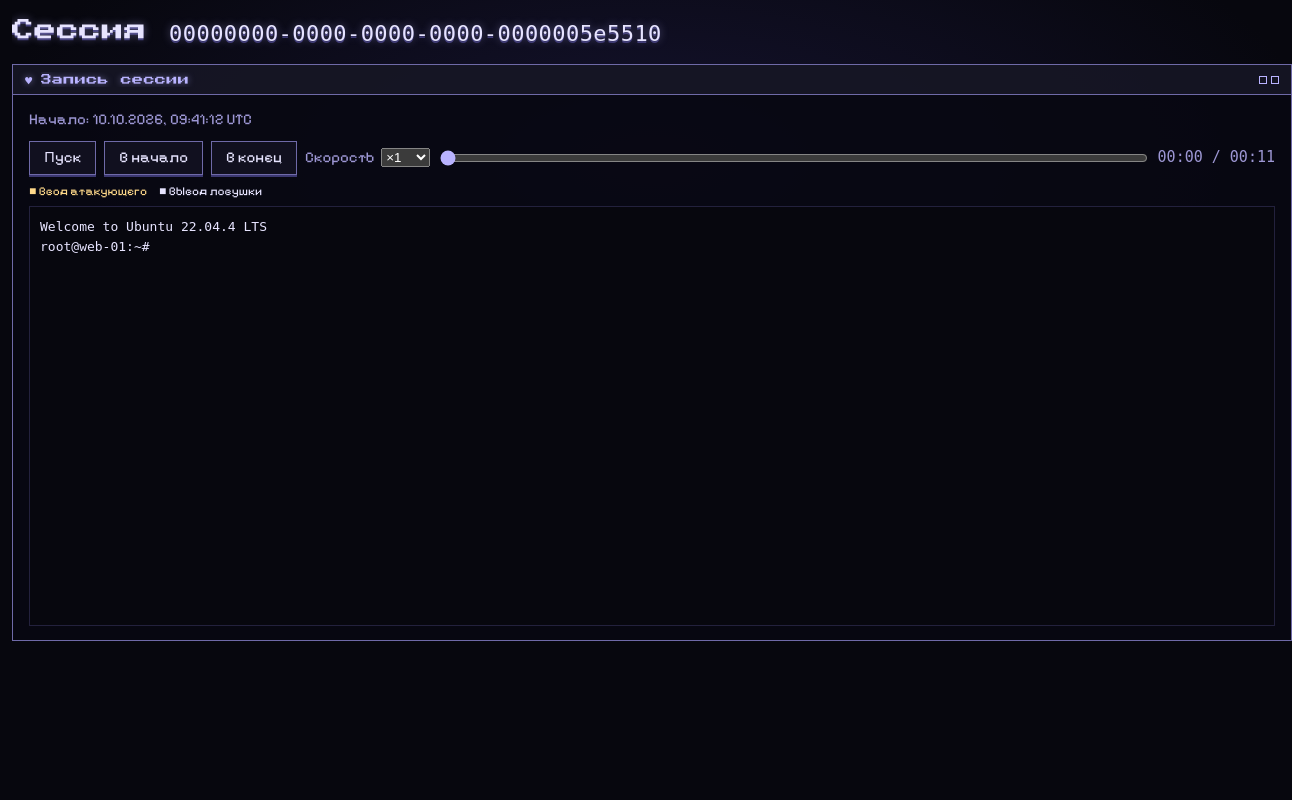
Test: экран записи сессии (F15) › «В начало» скрывает показанное
The width and height of the screenshot is (1292, 800).
Step 1. Click the button "В конец" → (254, 158), box [211, 141, 297, 175]
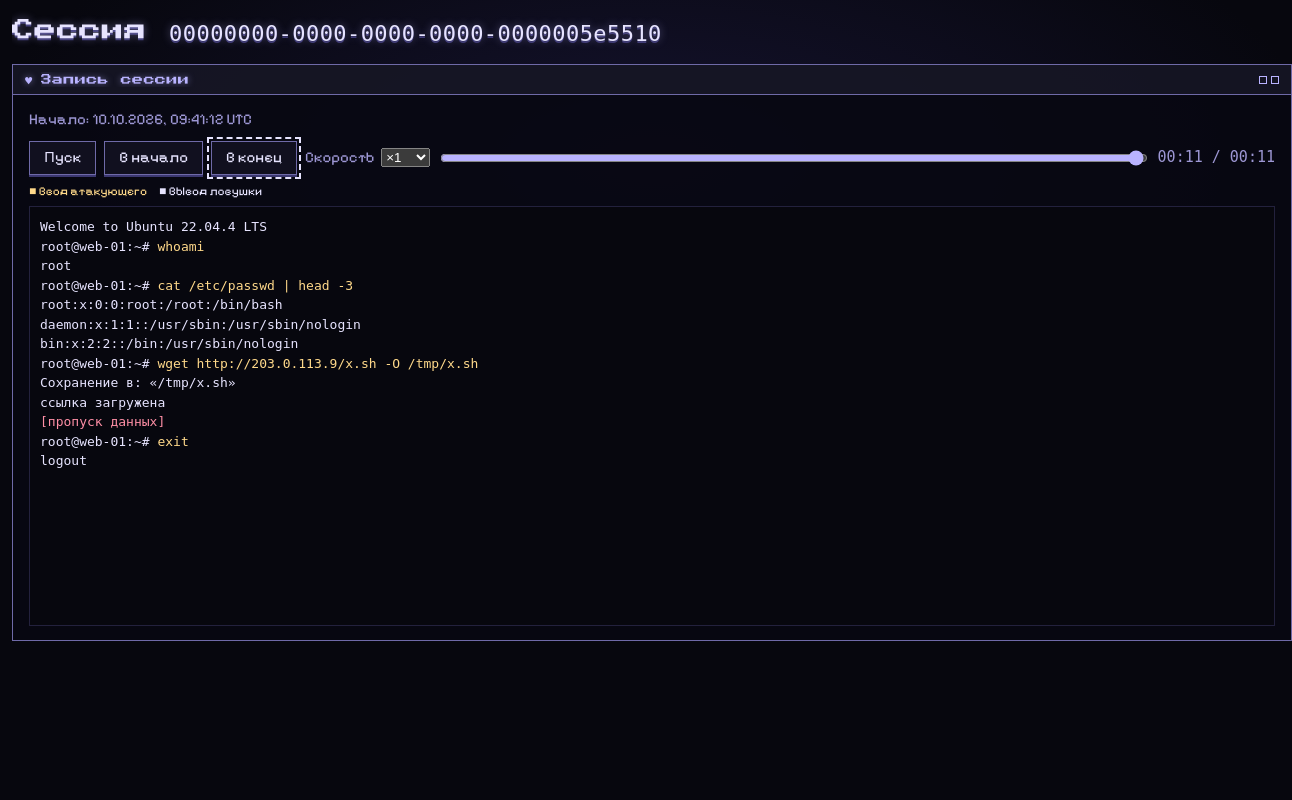
Step 2. Click the button "В начало" → (154, 158), box [104, 141, 203, 175]
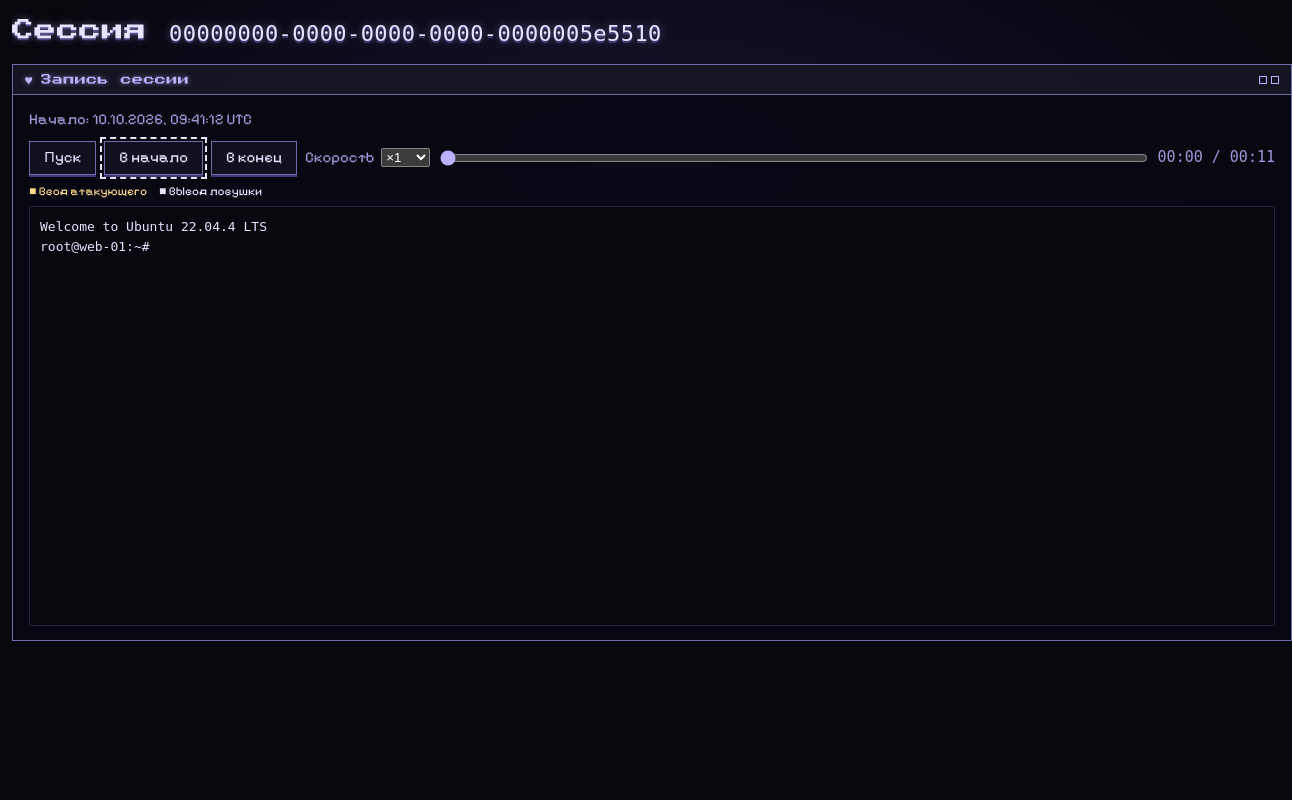
Result: the text "00:00 / 00:11" is shown at [1158, 147, 1275, 169]
